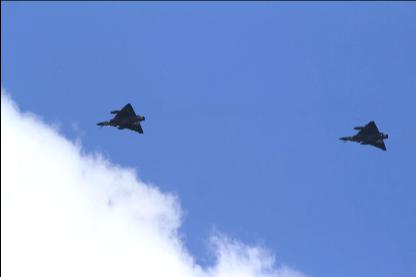Mirage2000: (94, 103, 144, 133), (338, 120, 388, 150)
